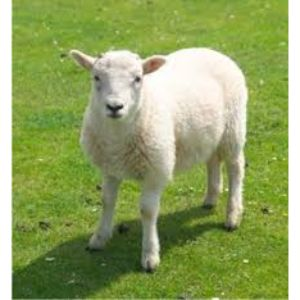sheep: (62, 48, 245, 231)
